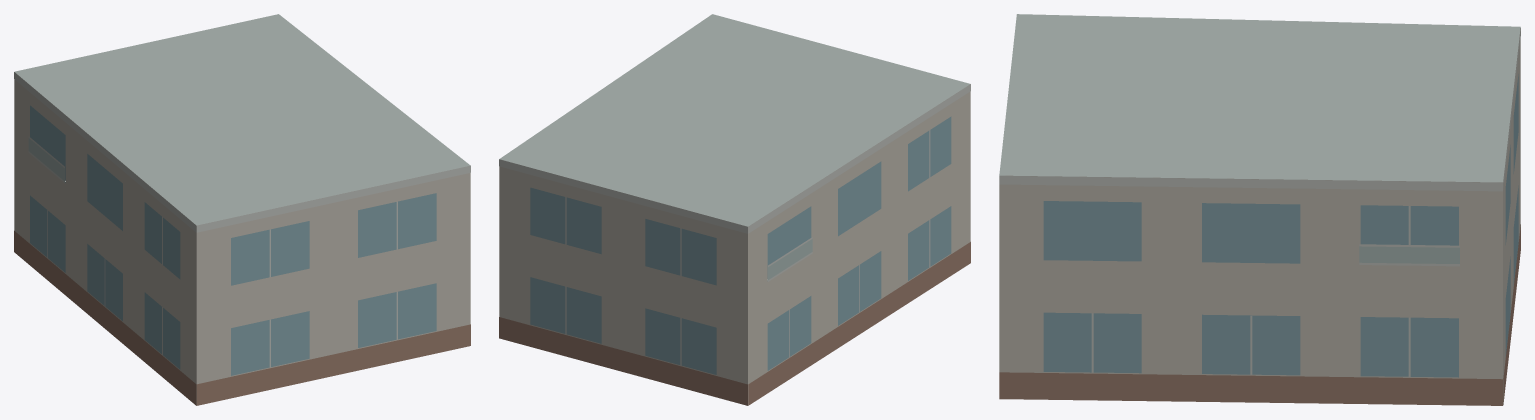
File: survey-upis-33014583.glb
The picture shows the model from 3 angles, left to right: view 1: azimuth 30°, elevation 25°; view 2: azimuth 150°, elevation 25°; view 3: azimuth 270°, elevation 25°; orthographic projection. The views are drawn at different scales.
Parts seen in each view (by area): view 1: survey-upis-33014583.tmp; view 2: survey-upis-33014583.tmp; view 3: survey-upis-33014583.tmp.
Boxes of the visible parts, left/top/right/bottom form: survey-upis-33014583.tmp: left=14, top=14, right=470, bottom=405; survey-upis-33014583.tmp: left=499, top=14, right=970, bottom=405; survey-upis-33014583.tmp: left=999, top=14, right=1520, bottom=405.
Bounding box in the file's own units: 9.87 × 6.1 × 12.91.
